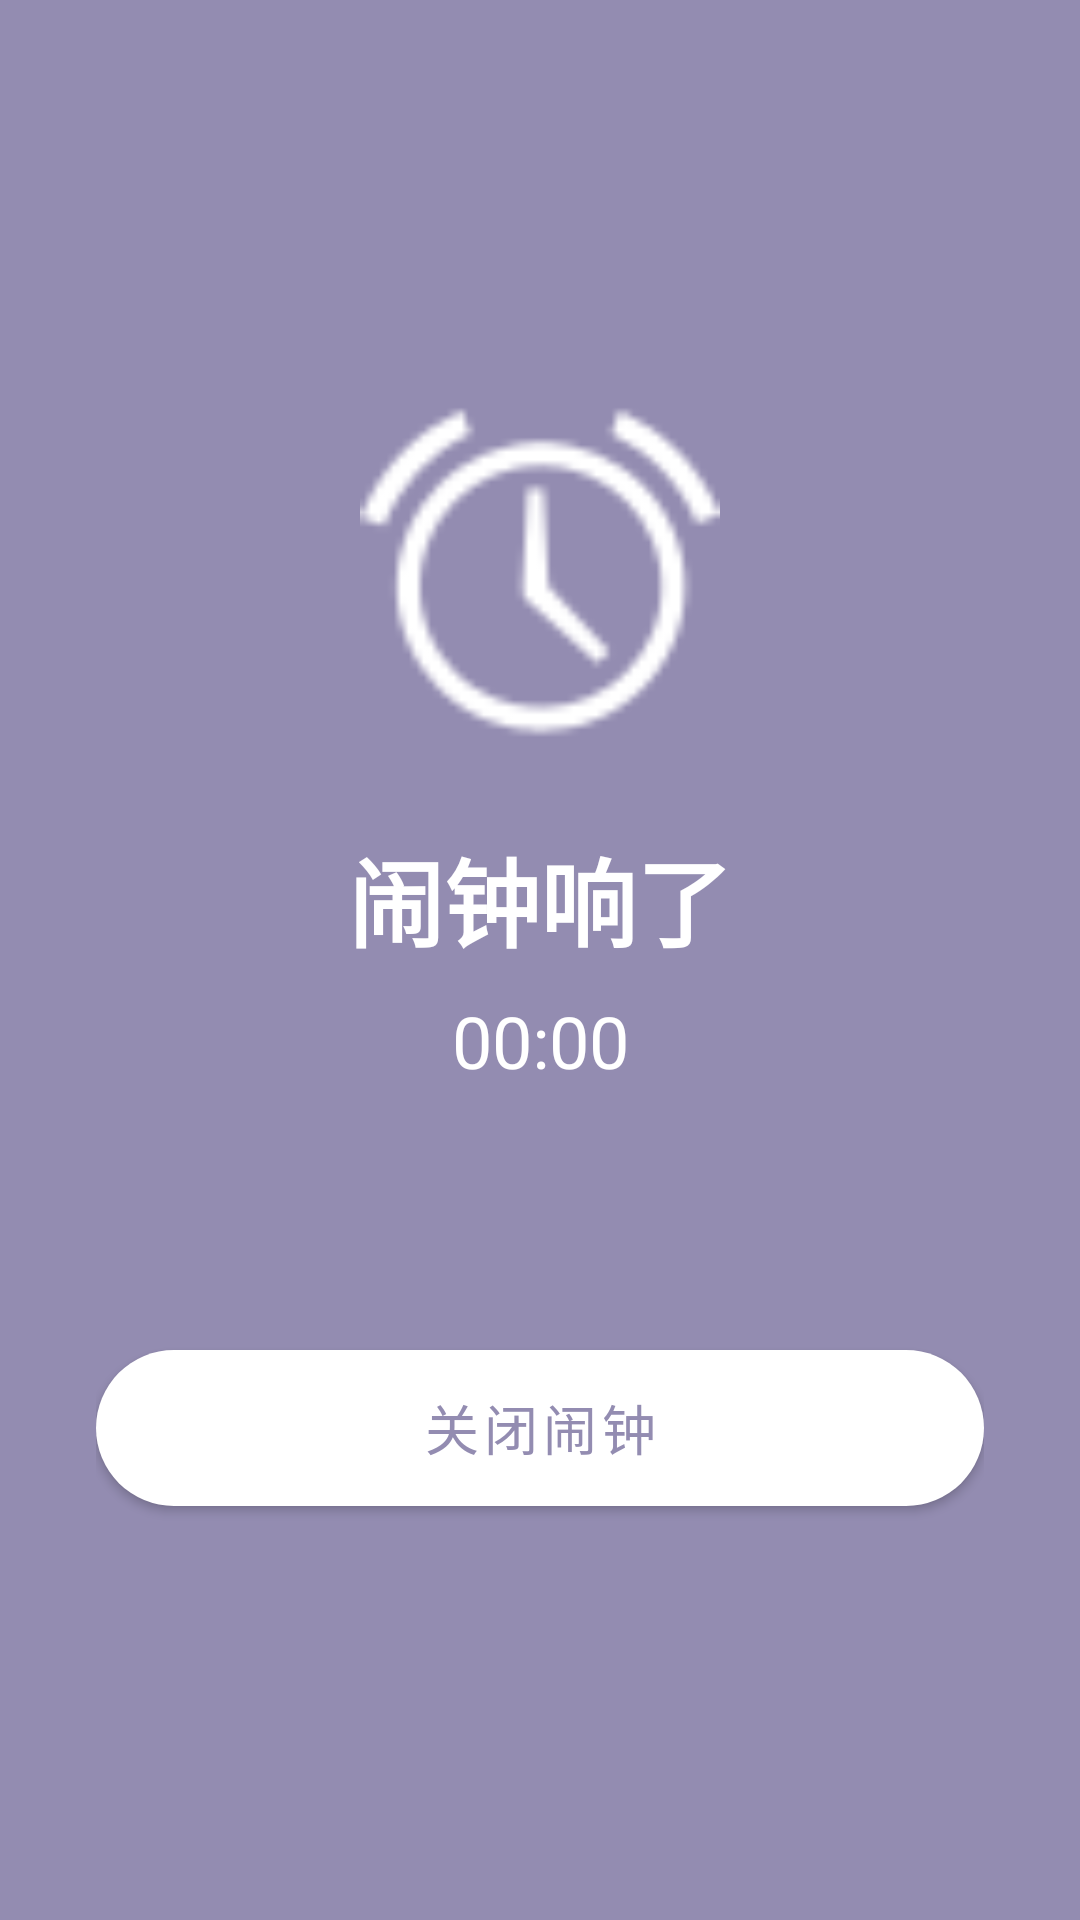

Locate icon controls on the screen. Image size 1080px×1920px, boxes as (x1, y1, x2, y2).
lock idle alarm: (360, 410, 720, 735)
